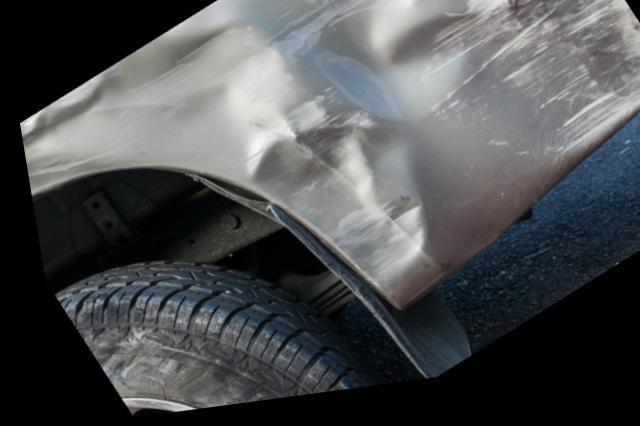dent: (16, 0, 640, 286)
